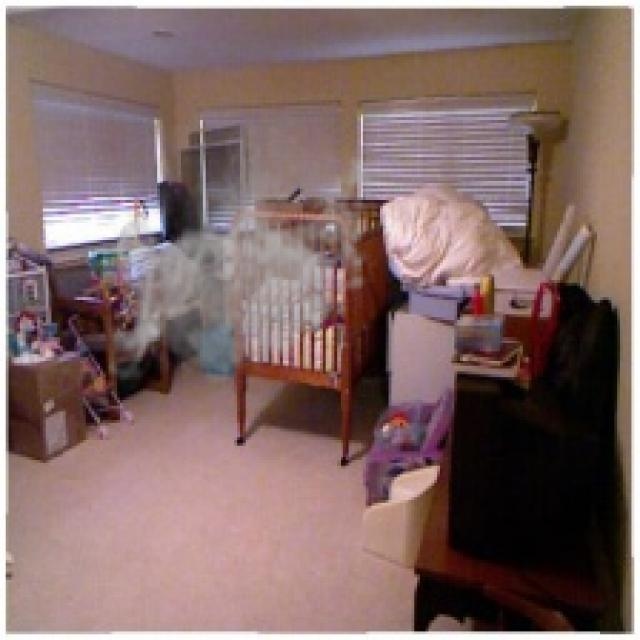smoke: (108, 126, 383, 394)
